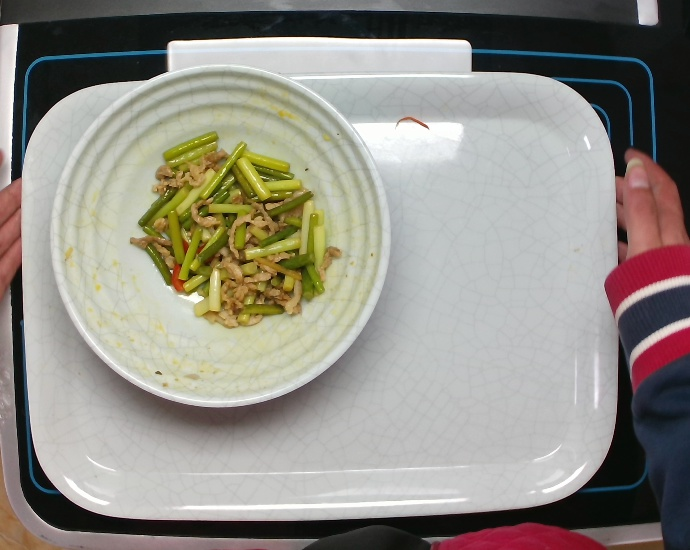JYsf-Da_Tang_Wan: (47, 60, 393, 411)
